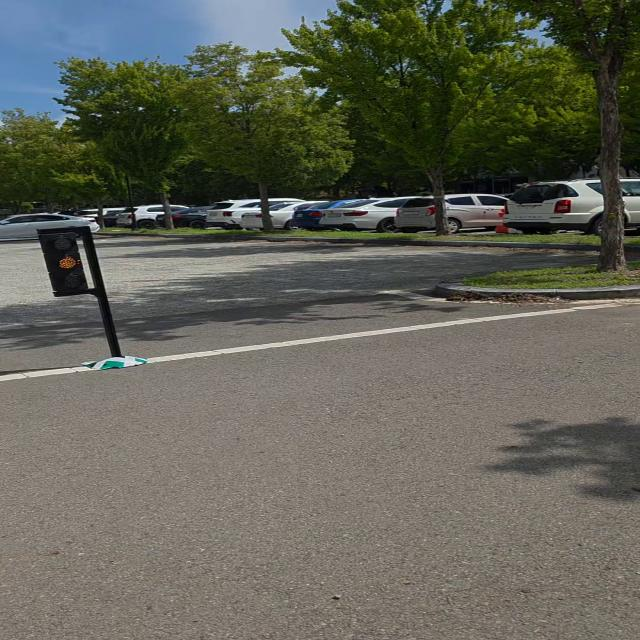yellow: (38, 229, 97, 295)
